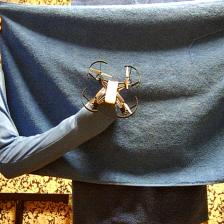drone: (82, 60, 141, 120)
